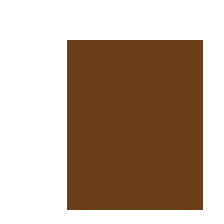rectangle: (67, 40, 202, 209)
